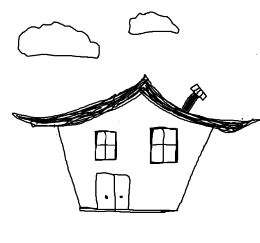chimney: (174, 79, 212, 118)
closed_window: (146, 123, 176, 163), (91, 129, 124, 165)
clouds: (16, 20, 102, 58), (126, 9, 181, 35)
door: (91, 170, 137, 216)
shaded_roof: (13, 74, 259, 133)
wall: (58, 94, 213, 216)
